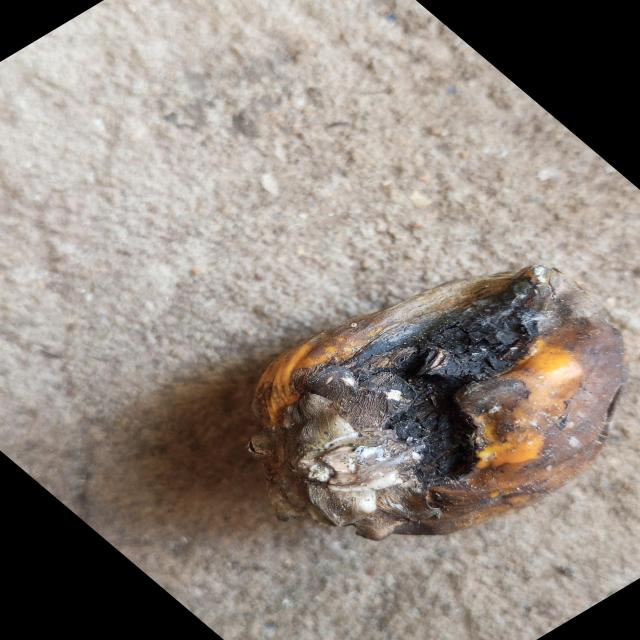damaged: (250, 268, 630, 542)
